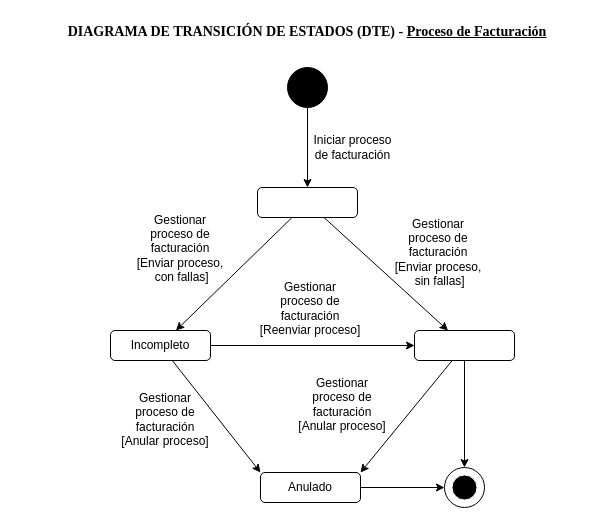
This 614x525 diagram has some shape labels left out. The centre of each missing label's shape, as x and y in pixels:
"Completo" goes at pixel 464 345.
"Simulado" goes at pixel 307 202.
